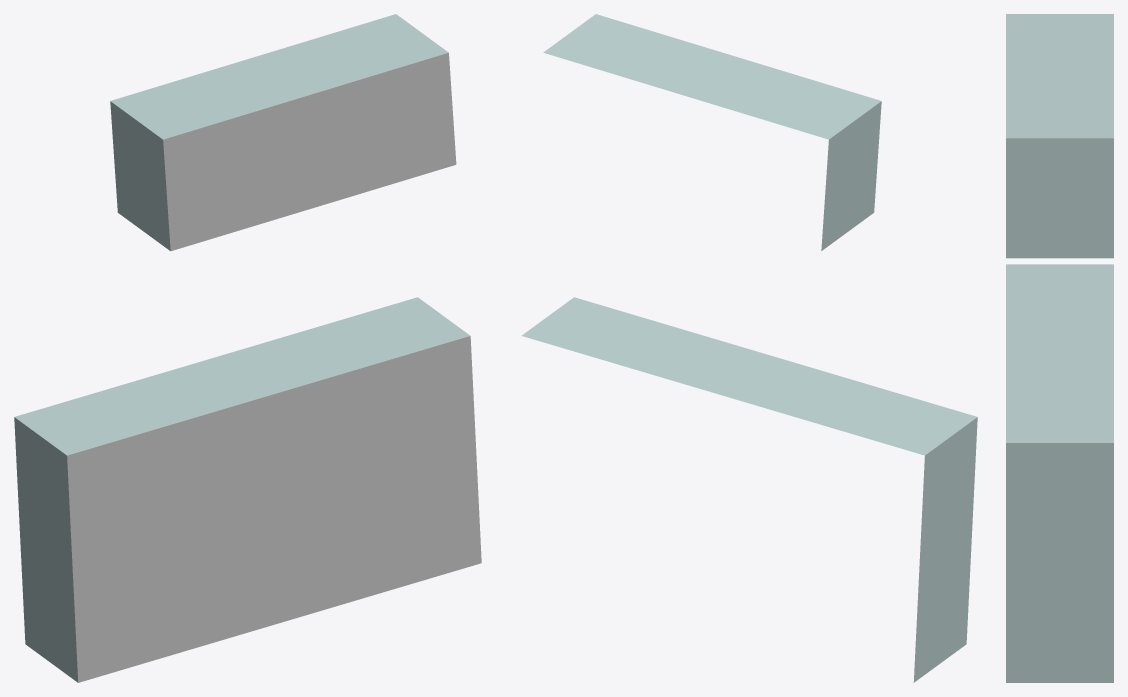
3 views of the same model, side by side, from view 1: azimuth 30°, elevation 25°; view 2: azimuth 150°, elevation 25°; view 3: azimuth 270°, elevation 25° (orthographic).
Parts seen in each view (by area): view 1: 0_2_3_3_3_1_3_1_1; view 2: 0_2_3_3_3_1_3_1_1; view 3: 0_2_3_3_3_1_3_1_1.
Boxes of the visible parts, x1,y1,x2,y2 form: 0_2_3_3_3_1_3_1_1: (14, 14, 481, 682); 0_2_3_3_3_1_3_1_1: (521, 14, 977, 682); 0_2_3_3_3_1_3_1_1: (1006, 14, 1113, 682).
Bounding box in the file's own units: 13.59 × 16.9 × 3.
